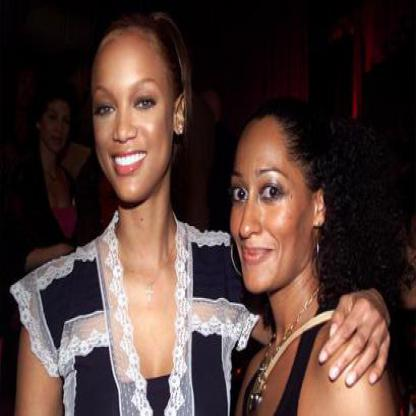face: (224, 106, 317, 300), (88, 21, 175, 206), (46, 95, 75, 154)
